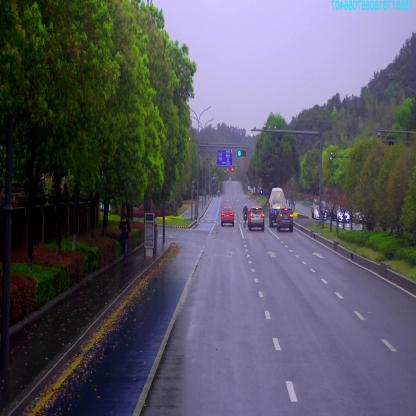traffic-light: (237, 148, 246, 156)
